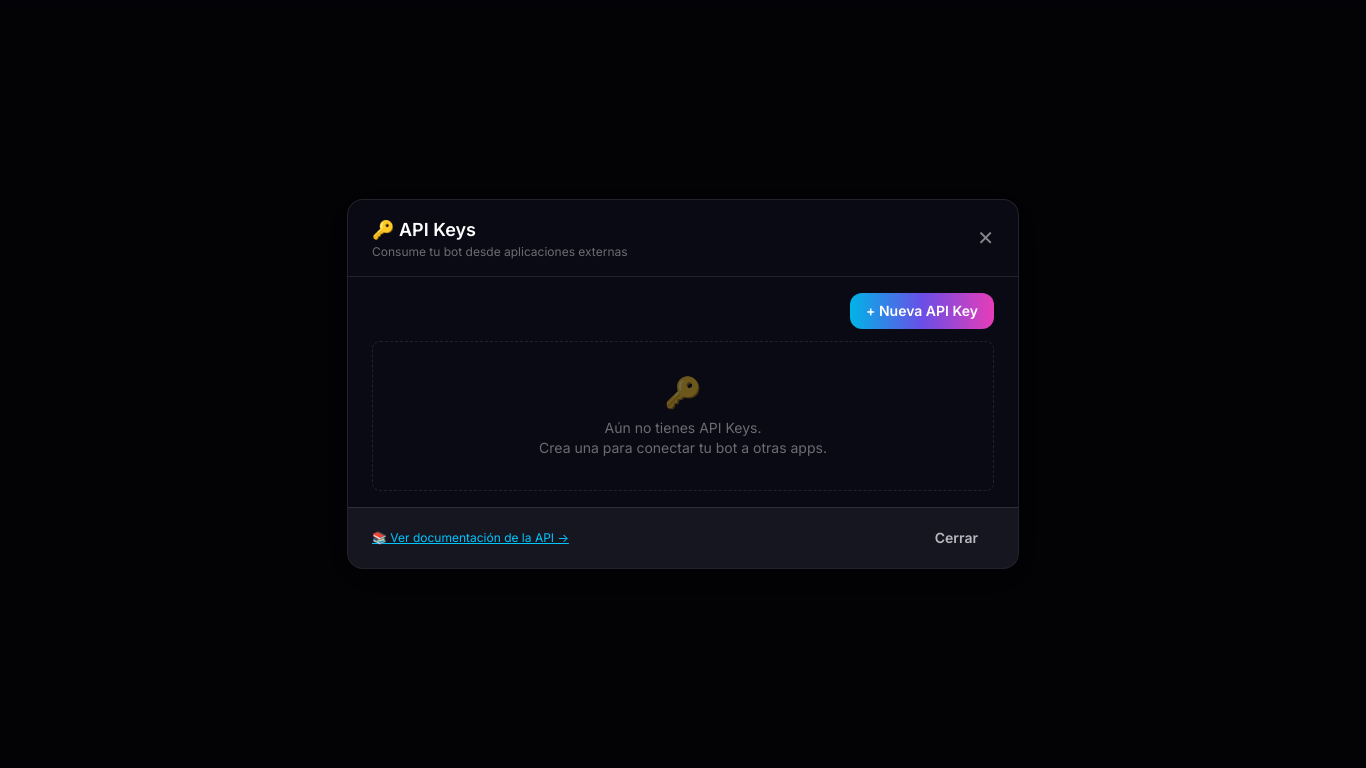
Scenario: ApiKeysPanel › Crear API Key › crear sin nombre → error
What coordinates should you click on to do the following:
click the button "+ Nueva API Key"
I would click on:
 (922, 311)
Its box is [850,293,994,329].
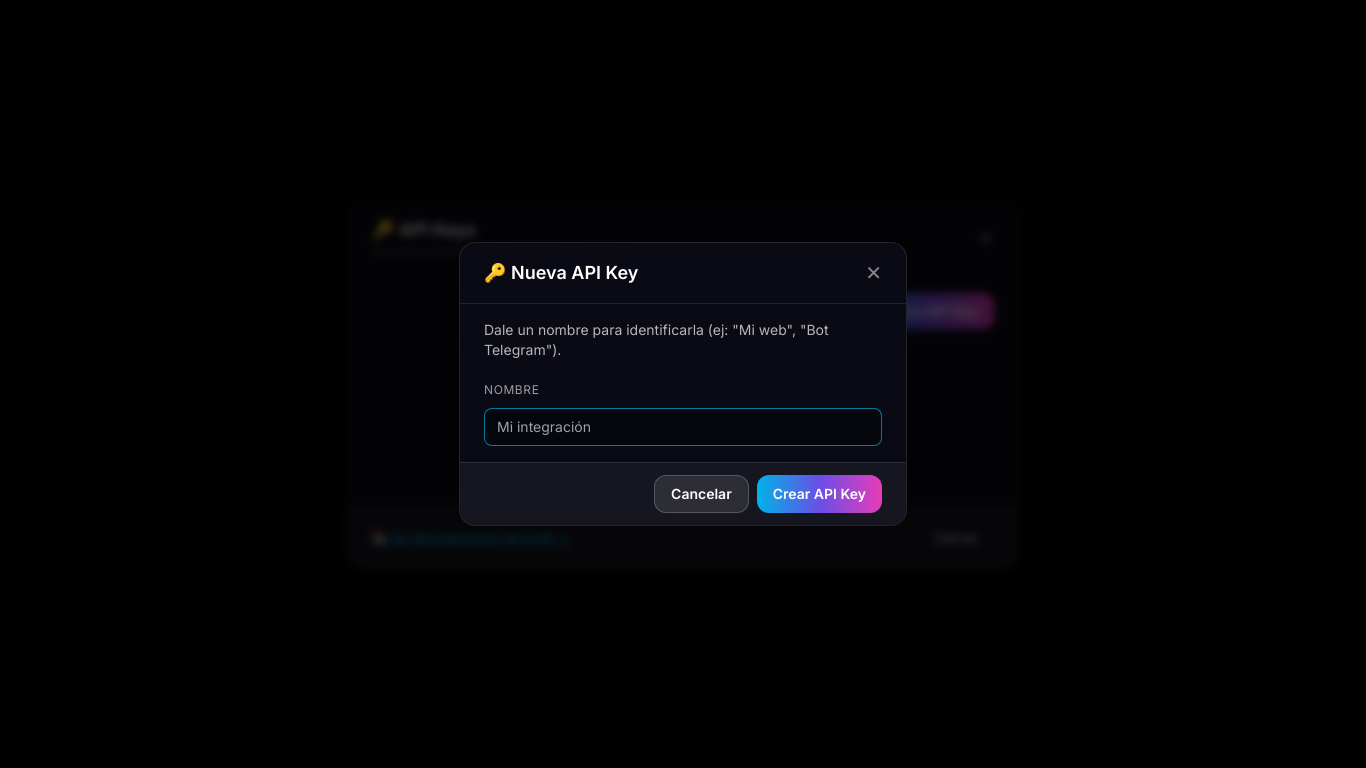
Expected: the button "Crear API Key" is shown
What coordinates should you click on to do the following:
click the button "Crear API Key"
I would click on:
 (819, 494)
Its box is [757,475,882,513].
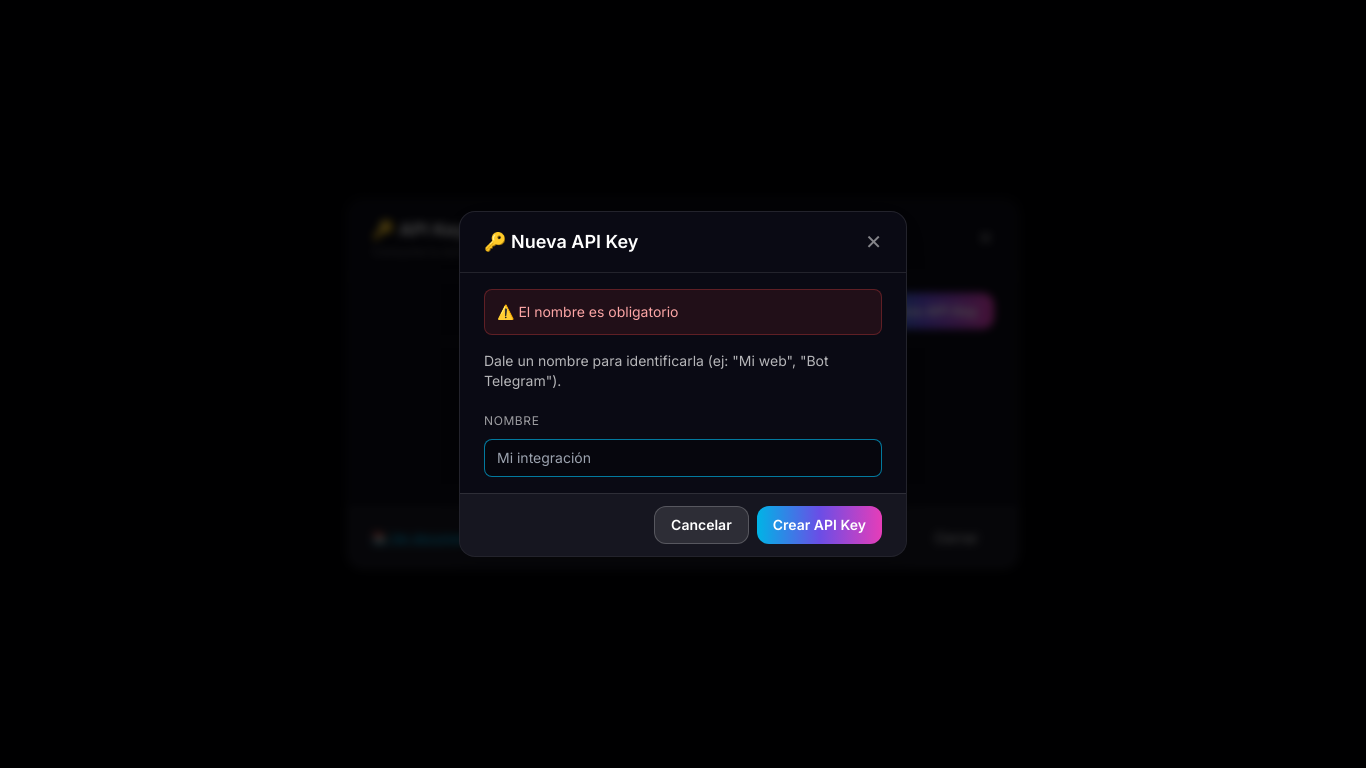
Expected: the text "⚠️ El nombre es obligatorio" is shown, [484,289,882,335]
